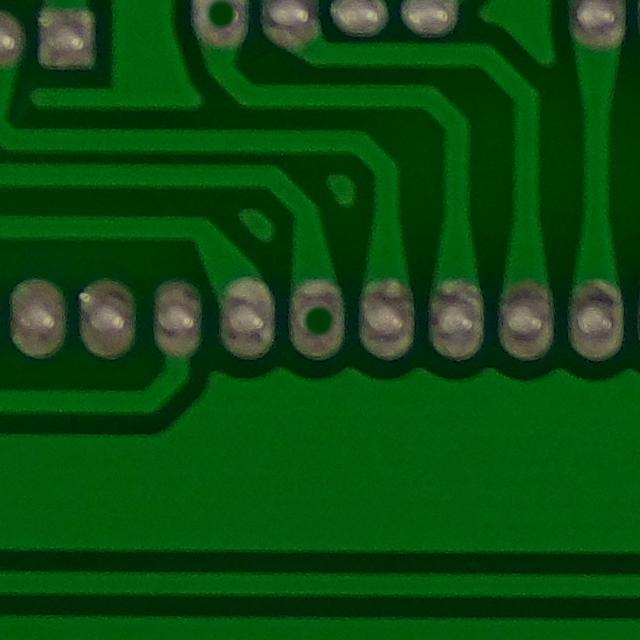missing_hole: (278, 274, 355, 368), (185, 1, 260, 55)
